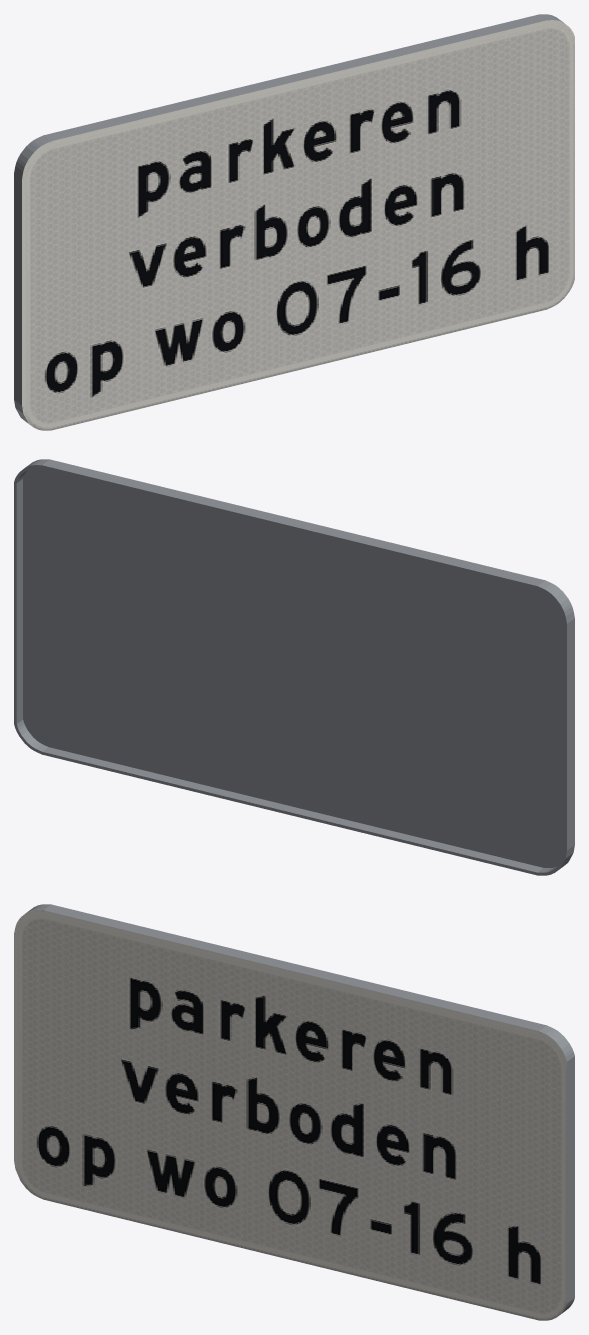
3 renders of one model, top to bottom at view 1: azimuth 30°, elevation 25°; view 2: azimuth 150°, elevation 25°; view 3: azimuth 330°, elevation 25°, orthographic.
Parts seen in each view (by area): view 1: cat_ae94a475d7dc072b; view 2: cat_ae94a475d7dc072b; view 3: cat_ae94a475d7dc072b.
Boxes of the visible parts, <box> form: cat_ae94a475d7dc072b: <box>14,14,574,430</box>; cat_ae94a475d7dc072b: <box>14,459,574,875</box>; cat_ae94a475d7dc072b: <box>14,904,574,1320</box>.
Size of the model in its own units: 0.6 by 0.015 by 0.3.
2 materials, 1 textured.
